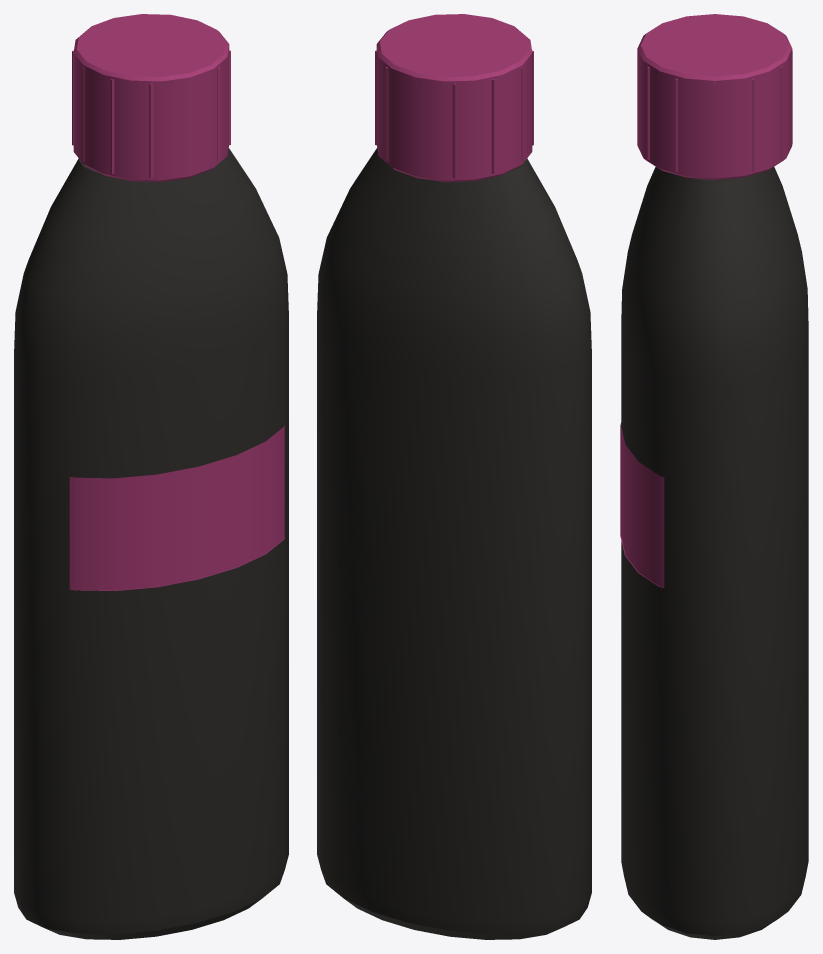
Rendered from body-wash-vibe-dc26a8591883.glb.
3 renders of one model, left to right at view 1: azimuth 30°, elevation 25°; view 2: azimuth 150°, elevation 25°; view 3: azimuth 270°, elevation 25°, orthographic.
Parts seen in each view (by area): view 1: plastic-dark, accent-magenta; view 2: plastic-dark, accent-magenta; view 3: plastic-dark, accent-magenta.
Part boxes in pixels (x1,y1,x2,y2): plastic-dark: (14, 148, 288, 939); accent-magenta: (69, 14, 284, 590); plastic-dark: (317, 148, 591, 939); accent-magenta: (375, 14, 533, 181); plastic-dark: (621, 167, 808, 939); accent-magenta: (620, 14, 792, 587).
Bounding box in the file's own units: 0.072 × 0.228 × 0.0462.
